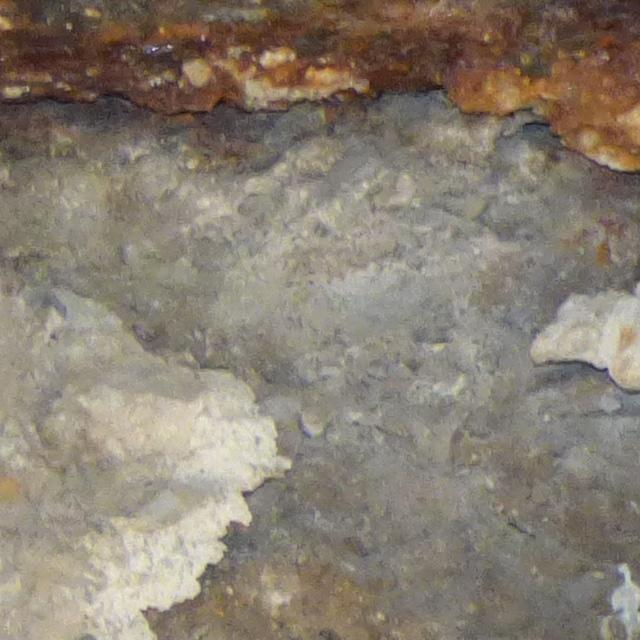Rust: (4, 1, 637, 174)
